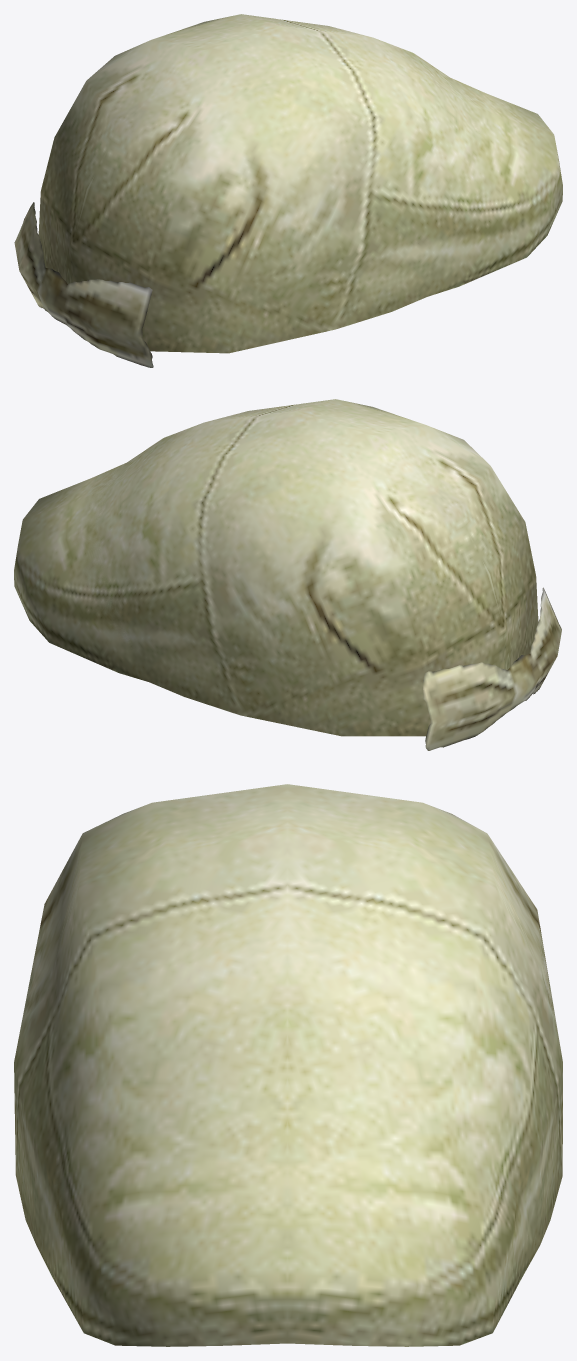
File: hat_0450033.FBX
The picture shows the model from 3 angles, top to bottom: view 1: azimuth 30°, elevation 25°; view 2: azimuth 150°, elevation 25°; view 3: azimuth 270°, elevation 25°; orthographic projection. The views are drawn at different scales.
Parts seen in each view (by area): view 1: hat_0450033; view 2: hat_0450033; view 3: hat_0450033.
Part boxes in pixels (box(x1,y1,x2,y2)): hat_0450033: box(14, 14, 562, 367); hat_0450033: box(14, 399, 561, 750); hat_0450033: box(14, 784, 562, 1346).
Bounding box in the file's own units: 32.18 × 15.6 × 19.51.
